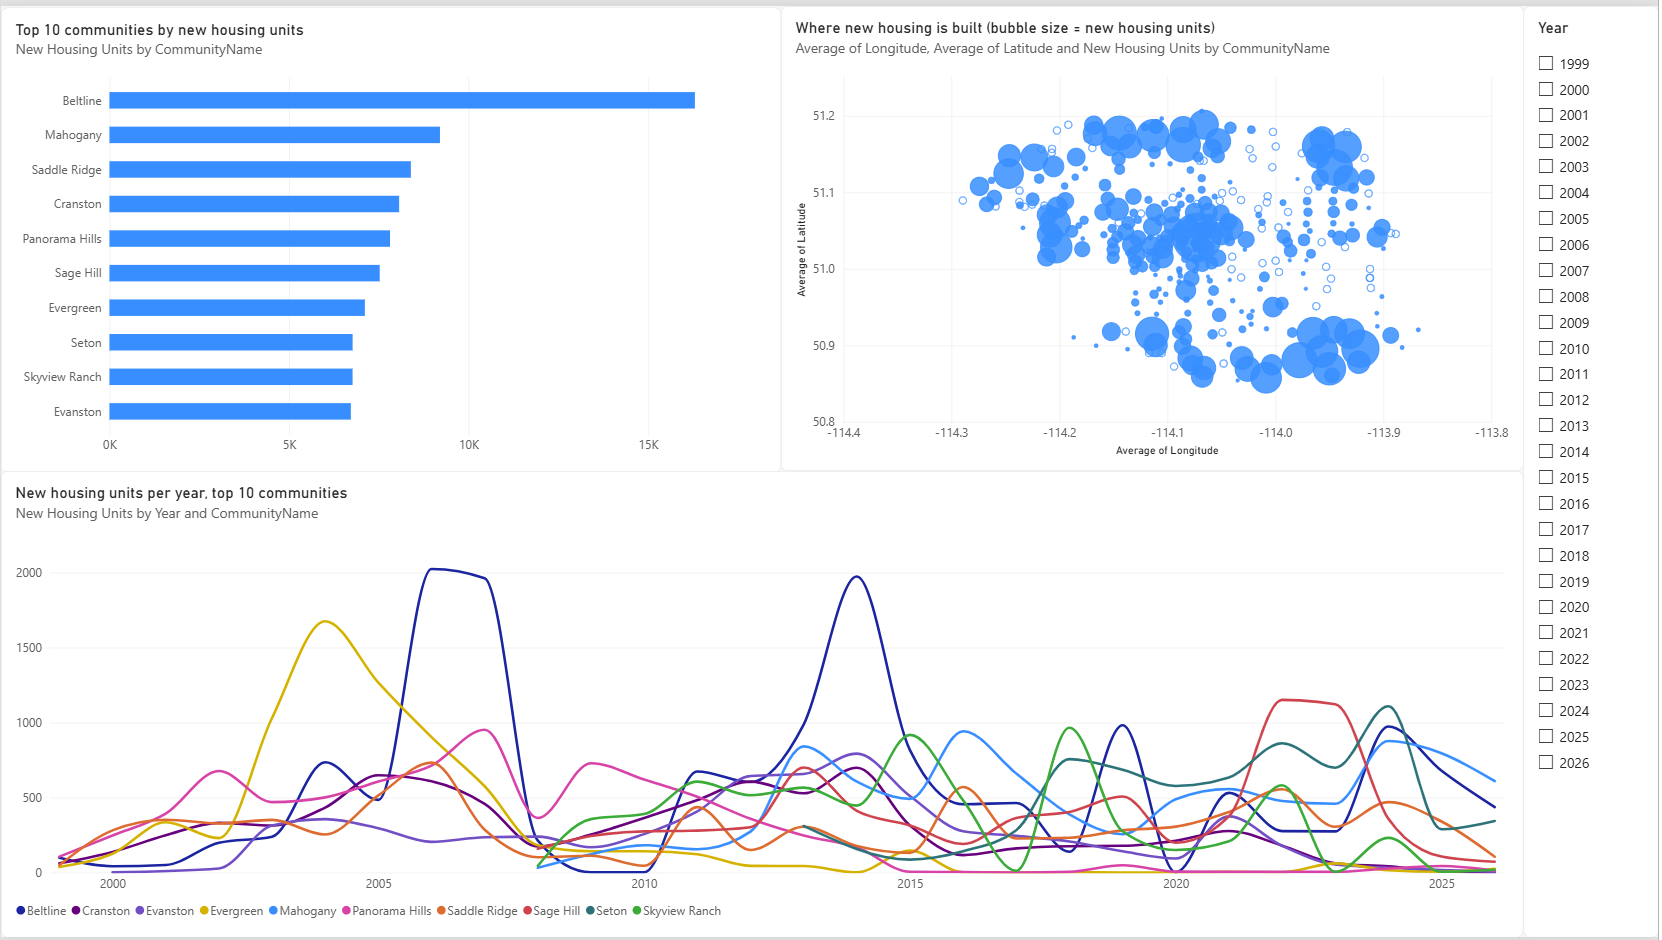

The page's visual inventory and layout, read from the dashboard file:
{"tool":"powerbi","page":{"name":"Communities","canvas":[1920,1080],"ordinal":3},"visuals":[{"type":"listSlicer","fields":{"Values":["Calendar.Year"]},"box":[1764.2,0,156.4,1079.4],"z":0},{"type":"clusteredBarChart","title":"Top 10 communities by new housing units","fields":{"Category":["Permits.CommunityName"],"Y":["Permits.New Housing Units"]},"box":[0,1.7,903.8,538.8],"z":1000},{"type":"lineChart","title":"New housing units per year, top 10 communities","fields":{"Category":["Calendar.Year"],"Series":["Permits.CommunityName"],"Y":["Permits.New Housing Units"]},"box":[0,538.8,1764.2,540.5],"z":2000},{"type":"scatterChart","title":"Where new housing is built (bubble size = new housing units)","fields":{"Category":["Permits.CommunityName"],"Size":["Permits.New Housing Units"],"X":["Avg(Permits.Longitude)"],"Y":["Avg(Permits.Latitude)"]},"box":[903.8,0,860.4,538.8],"z":3000},{"type":"listSlicer","fields":{"Values":["Calendar.Year"]},"box":[1763.6,0,156.4,1079.4],"z":3001}]}

Visuals, with their boxes in screenshot pixels (x1, y1, x2, y2), scaled from the page's 1920x1080 canvas onto the 1662x940 screenshot:
listSlicer - Calendar.Year: region(1527, 0, 1661, 939)
"Top 10 communities by new housing units" clusteredBarChart: region(0, 1, 782, 470)
"New housing units per year, top 10 communities" lineChart: region(0, 469, 1527, 939)
"Where new housing is built (bubble size = new housing units)" scatterChart: region(782, 0, 1527, 469)
listSlicer - Calendar.Year: region(1527, 0, 1661, 939)
